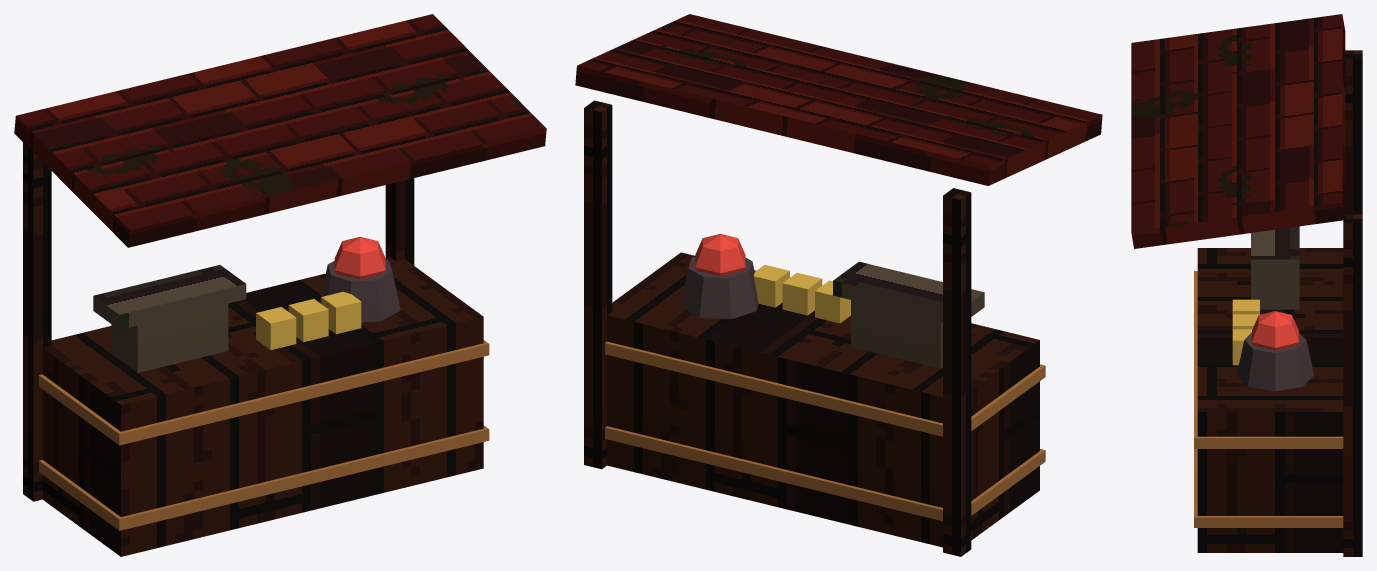
File: dwarf_stall.glb
The picture shows the model from 3 angles, left to right: view 1: azimuth 30°, elevation 25°; view 2: azimuth 150°, elevation 25°; view 3: azimuth 270°, elevation 25°; orthographic projection. The views are drawn at different scales.
Parts seen in each view (by area): view 1: dwarf_stall; view 2: dwarf_stall; view 3: dwarf_stall.
Boxes of the visible parts, left/top/right/bottom form: dwarf_stall: left=14, top=14, right=546, bottom=556; dwarf_stall: left=575, top=14, right=1102, bottom=556; dwarf_stall: left=1131, top=14, right=1362, bottom=556.
Bounding box in the file's own units: 2.3 × 2.06 × 1.19.
Materials: 5 (3 with a texture image).
